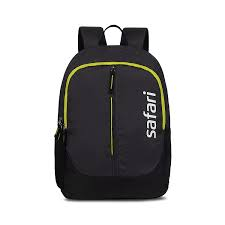backpack: (53, 24, 171, 200)
